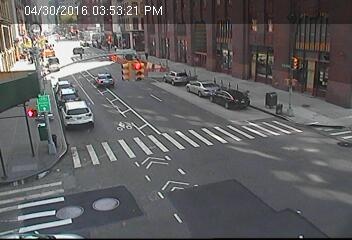neg: (23, 106, 33, 119), (66, 100, 75, 112), (174, 61, 181, 71), (104, 36, 110, 44)
pos: (143, 49, 152, 61), (28, 54, 35, 63)
